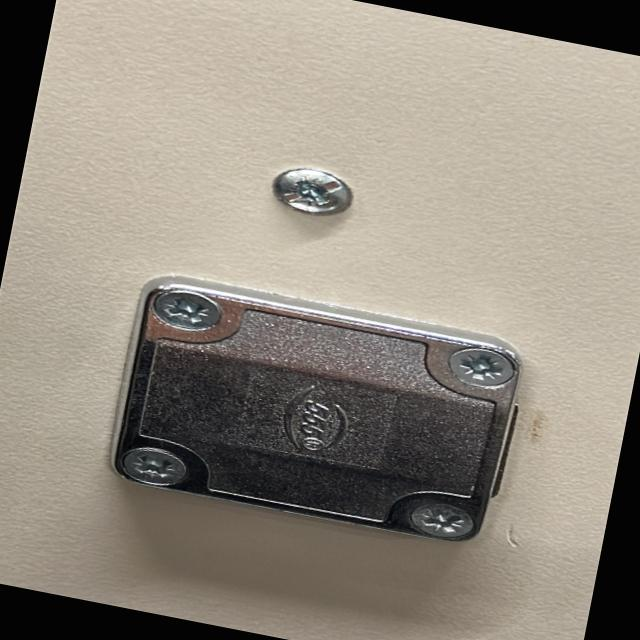Pozidriv: (421, 334, 528, 400), (398, 488, 498, 554), (267, 165, 365, 232), (104, 434, 202, 498), (154, 286, 232, 344)
